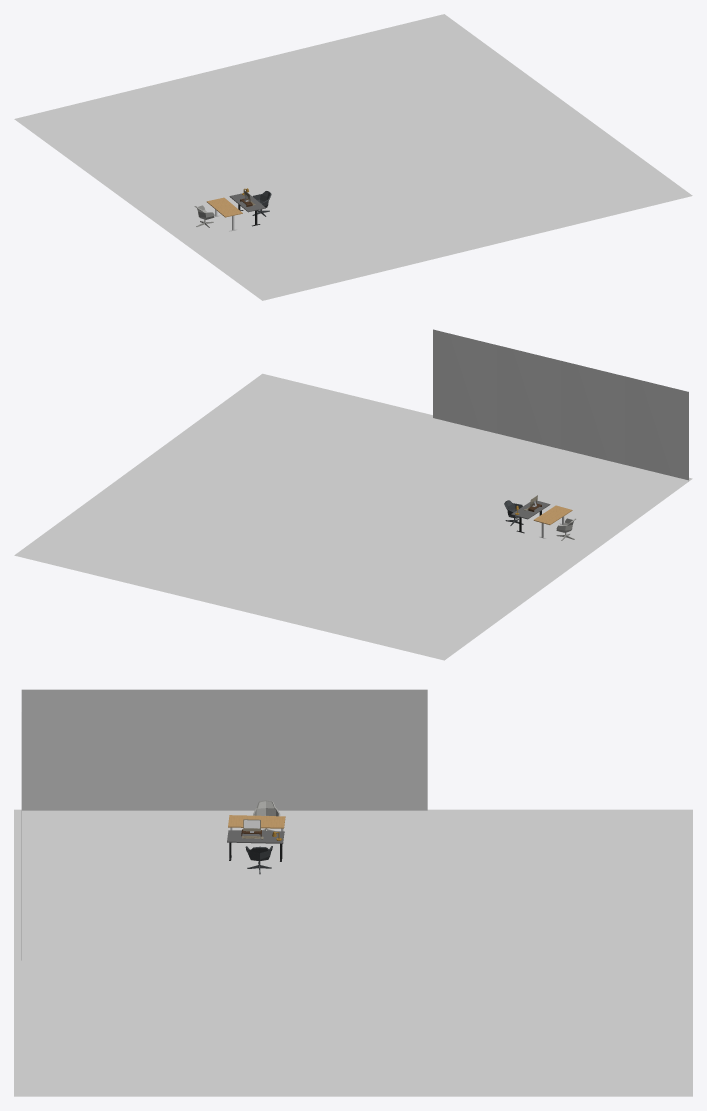
File: EasyScene.glb
3 views of the same model, one above another, from view 1: azimuth 30°, elevation 25°; view 2: azimuth 150°, elevation 25°; view 3: azimuth 270°, elevation 25° (orthographic). The views are drawn at different scales.
Parts seen in each view (by area): view 1: big_tile_, Desk_light_; view 2: big_tile_, wall_brick_big___6_, wall_brick_big___4_, wall_brick_big___3_, wall_brick_big___5_; view 3: big_tile_, wall_brick_big___2_, wall_brick_big___7_, wall_brick_big___1_, wall_brick_big_, Desk_Dark, Desk_light_.
Part boxes in pixels (box(x1,y1,x2,y2)): big_tile_: box(14, 14, 692, 300); Desk_light_: box(206, 197, 242, 231); big_tile_: box(14, 373, 692, 660); wall_brick_big___6_: box(433, 329, 497, 433); wall_brick_big___4_: box(560, 360, 624, 464); wall_brick_big___3_: box(625, 376, 688, 480); wall_brick_big___5_: box(497, 345, 560, 448); big_tile_: box(14, 809, 692, 1096); wall_brick_big___2_: box(21, 689, 123, 810); wall_brick_big___7_: box(326, 689, 427, 810); wall_brick_big___1_: box(123, 689, 224, 810); wall_brick_big_: box(224, 689, 325, 810); Desk_Dark: box(227, 830, 284, 861); Desk_light_: box(228, 815, 285, 846).
Bounding box in the file's own units: 20 × 4 × 20.
12 materials, 9 textured.
